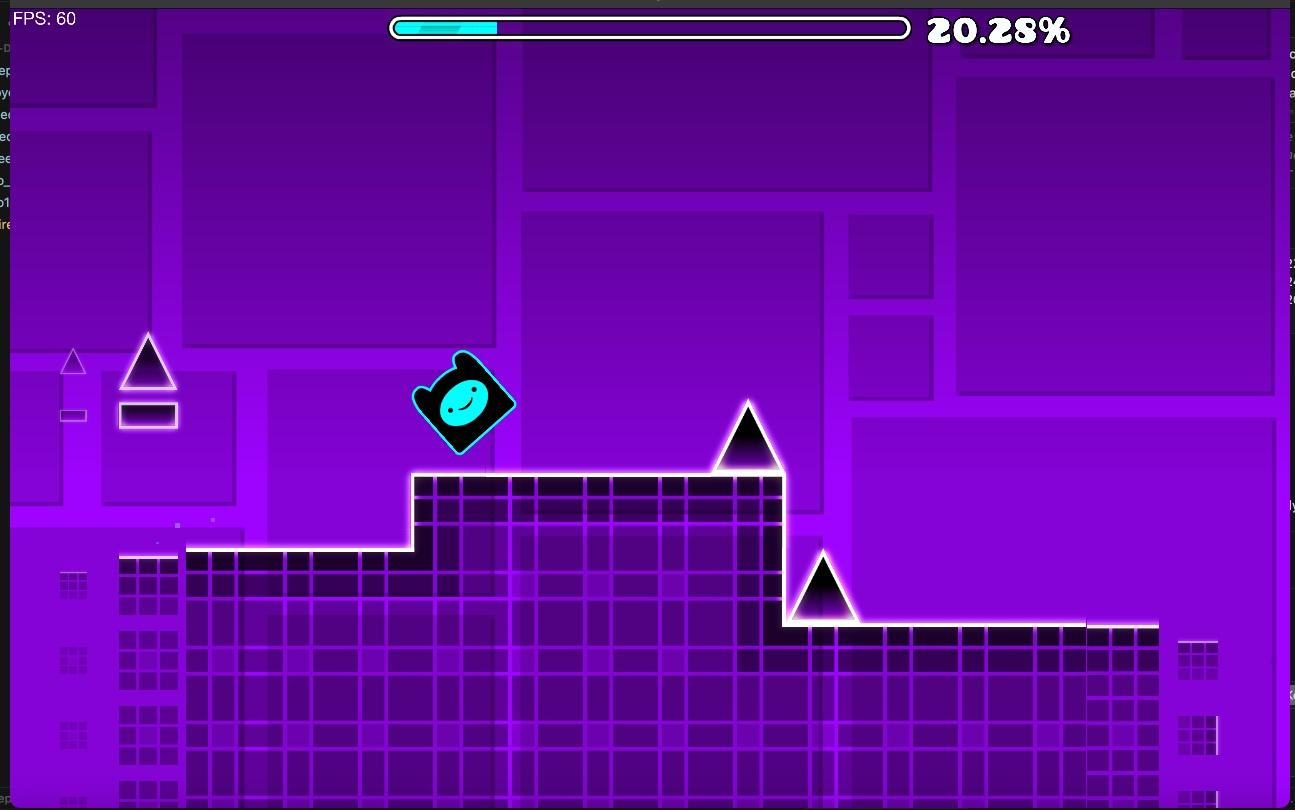block: (414, 474, 777, 804), (786, 633, 1157, 802), (184, 550, 413, 810)
player: (413, 351, 515, 454)
spike: (783, 551, 858, 626), (716, 401, 783, 474)
